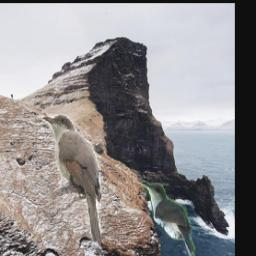Cuckoo: (42, 114, 102, 249), (140, 181, 195, 256)
